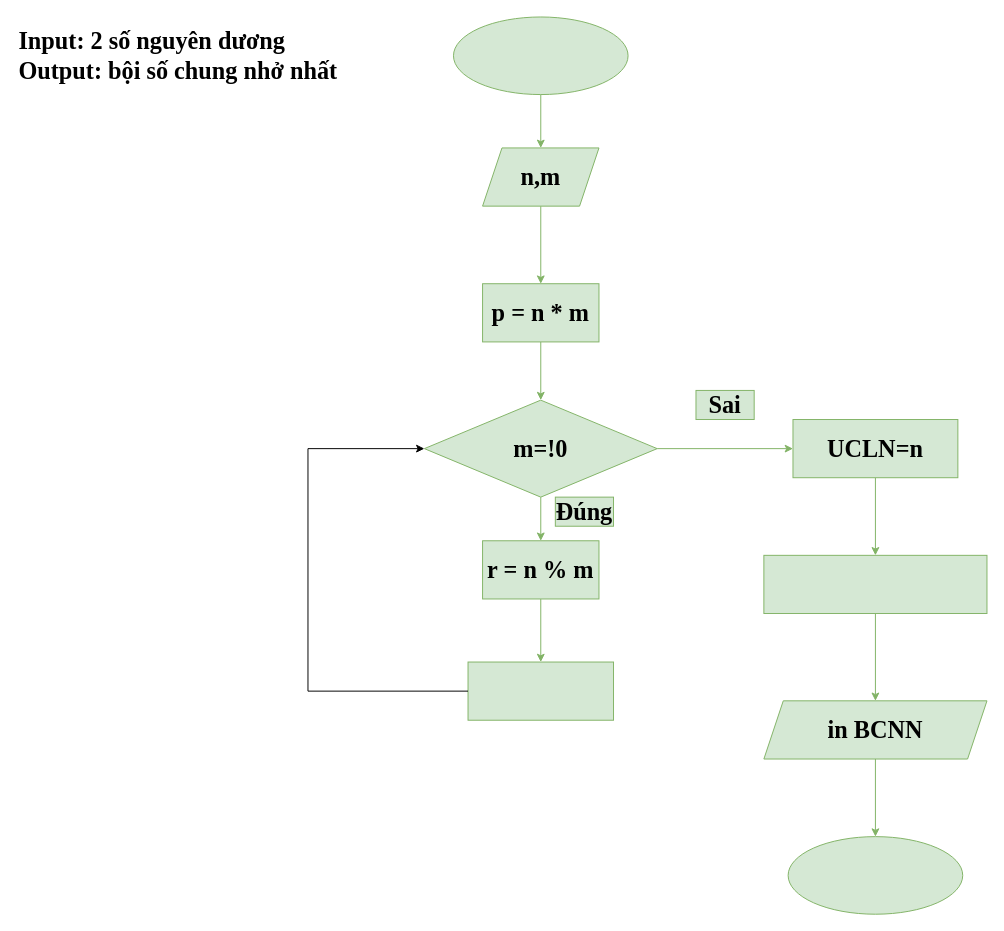
Image size: 1004x931. Some labels were removed from this diagram. The centre of each missing label's shape, as x and y in pixels:
"BCNN= p/UCLN" belongs at pixel 875 584.
"Bắt đầu" belongs at pixel 540 55.
"kết thúc" belongs at pixel 875 875.
"n = m; m = r" belongs at pixel 540 690.
